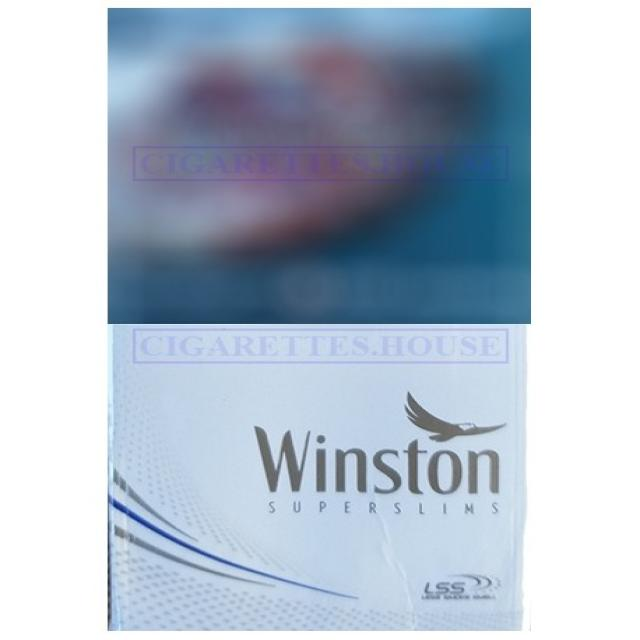winston: (103, 7, 525, 637)
